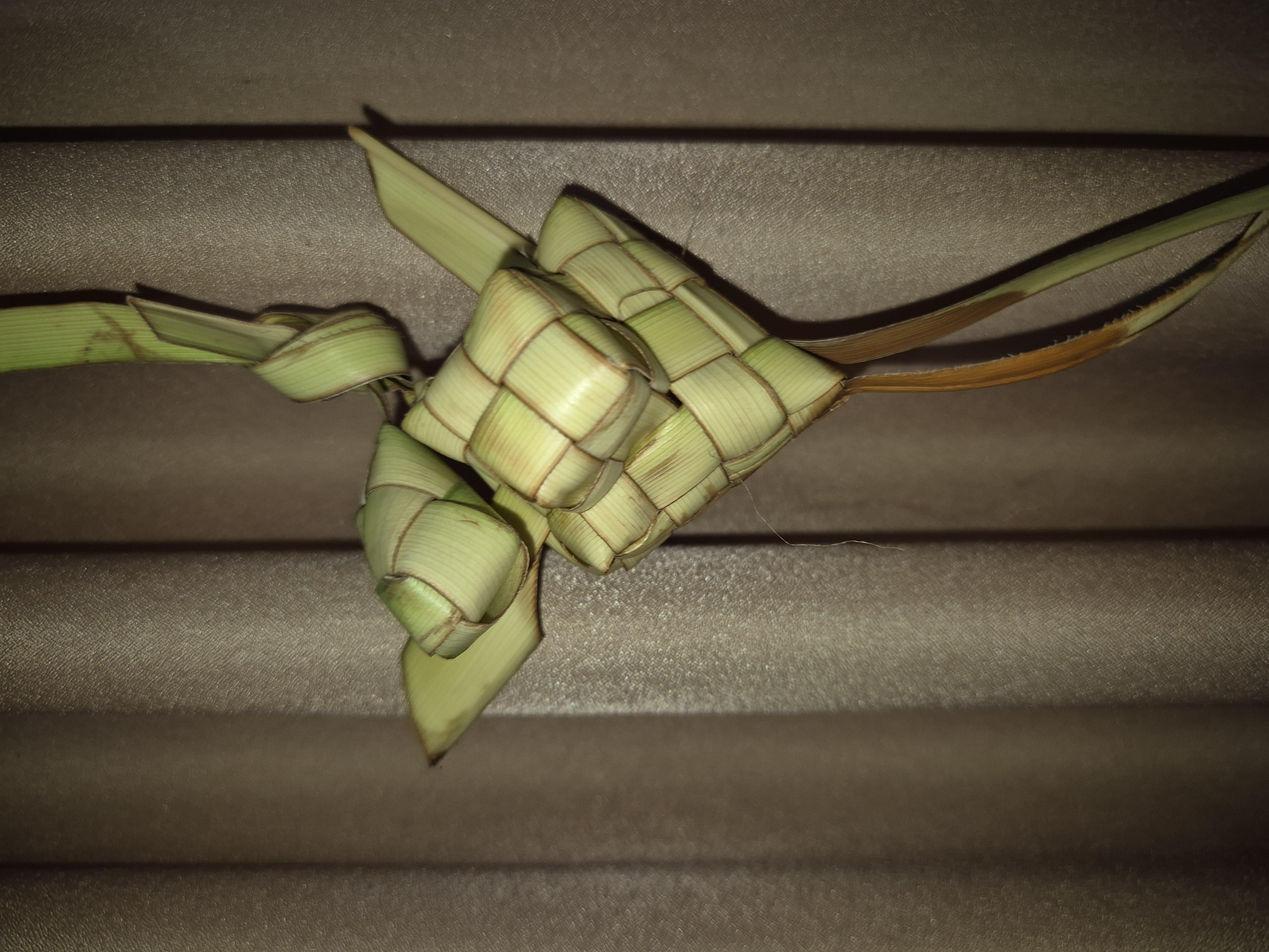Tipat Gong: (505, 303, 1006, 633)
